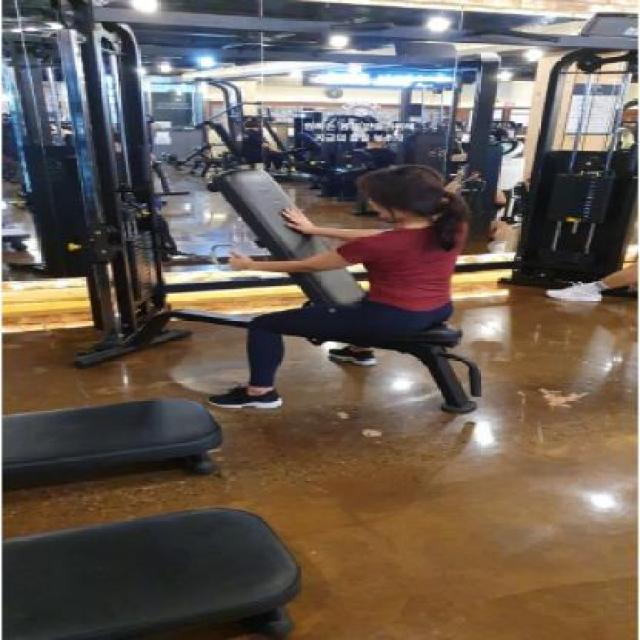Seated Cable Rows: (0, 11, 548, 424)
